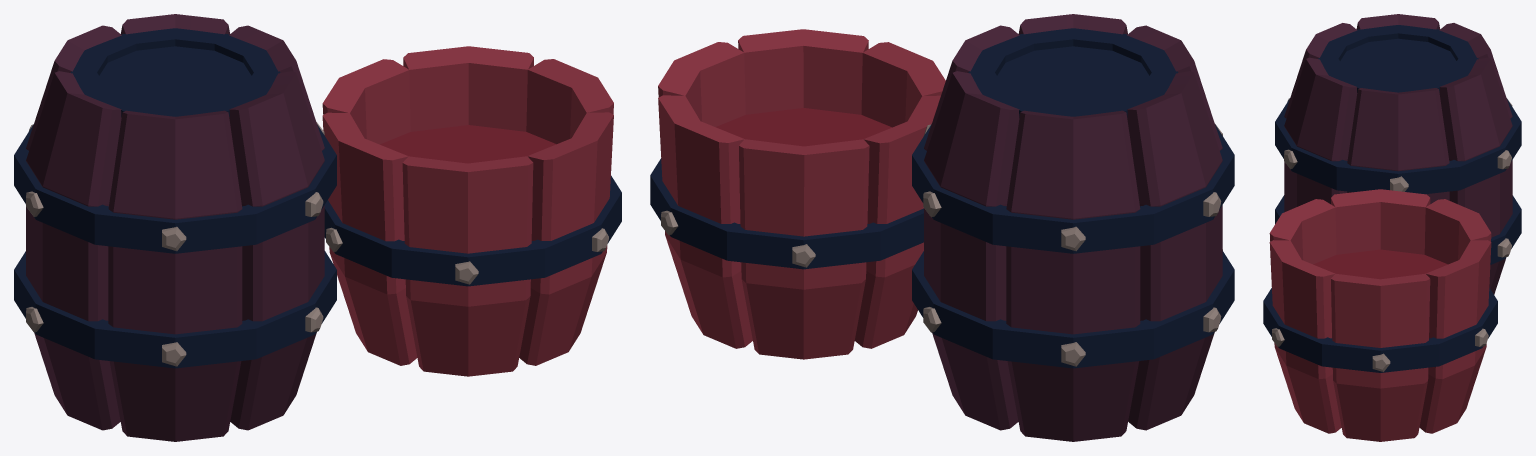
File: barrel.fbx
3 renders of one model, left to right at view 1: azimuth 30°, elevation 25°; view 2: azimuth 150°, elevation 25°; view 3: azimuth 270°, elevation 25°, orthographic. The views are drawn at different scales.
Visible parts, largest first — view 1: clinic6; view 2: clinic6; view 3: clinic6.
Part boxes in pixels (box(x1,y1,x2,y2)): clinic6: box(14, 14, 621, 441); clinic6: box(650, 14, 1234, 441); clinic6: box(1263, 14, 1521, 441).
Size of the model in its own units: 239 by 130 by 124.
